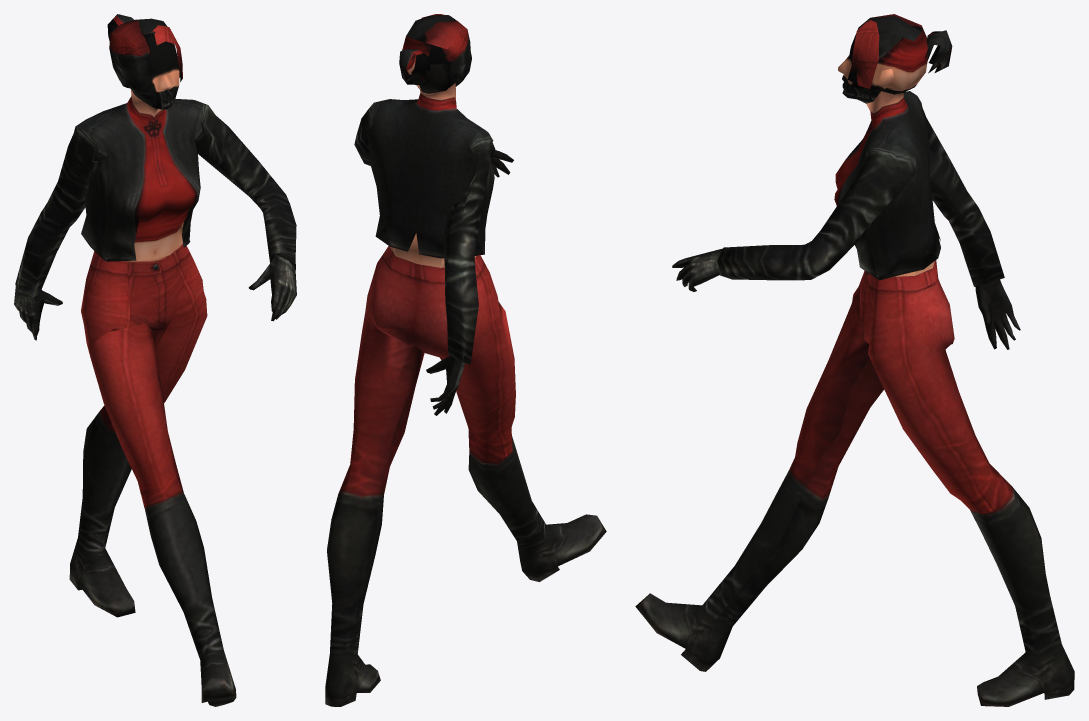
3 views of the same model, side by side, from view 1: azimuth 30°, elevation 25°; view 2: azimuth 150°, elevation 25°; view 3: azimuth 270°, elevation 25° (orthographic). The views are drawn at different scales.
Visible parts, largest first — view 1: SketchUp (×5); view 2: SketchUp (×4); view 3: SketchUp (×5).
Boxes of the visible parts, x1,y1,x2,y2 form: SketchUp (×5): (14, 18, 296, 706); SketchUp (×4): (325, 15, 606, 706); SketchUp (×5): (635, 14, 1074, 706).
Bounding box in the file's own units: 66.09 × 125 × 211.
2 materials, 2 textured.
